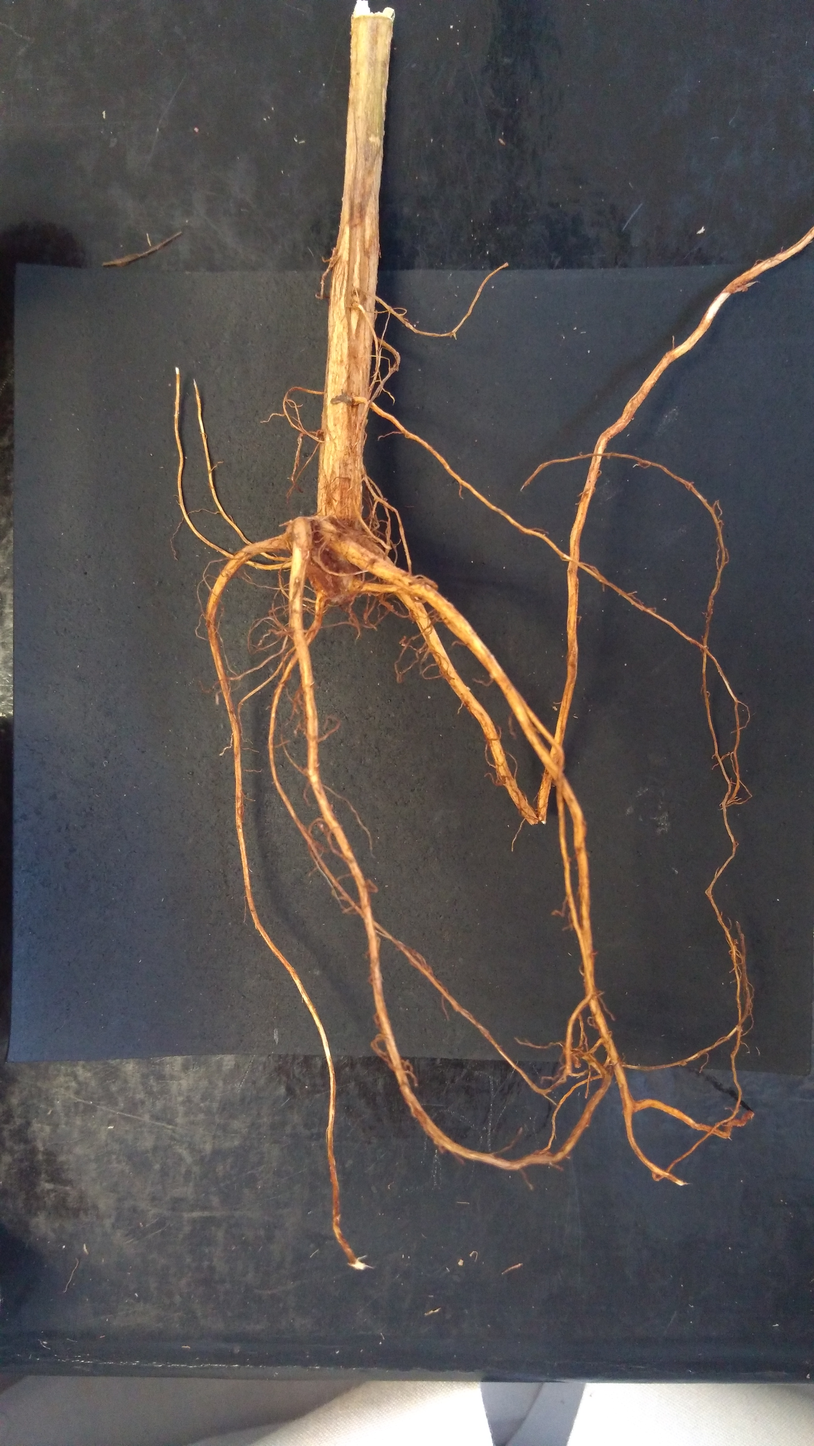nodule: (305, 543, 364, 607), (364, 878, 380, 894), (408, 607, 418, 623), (315, 429, 325, 442)
